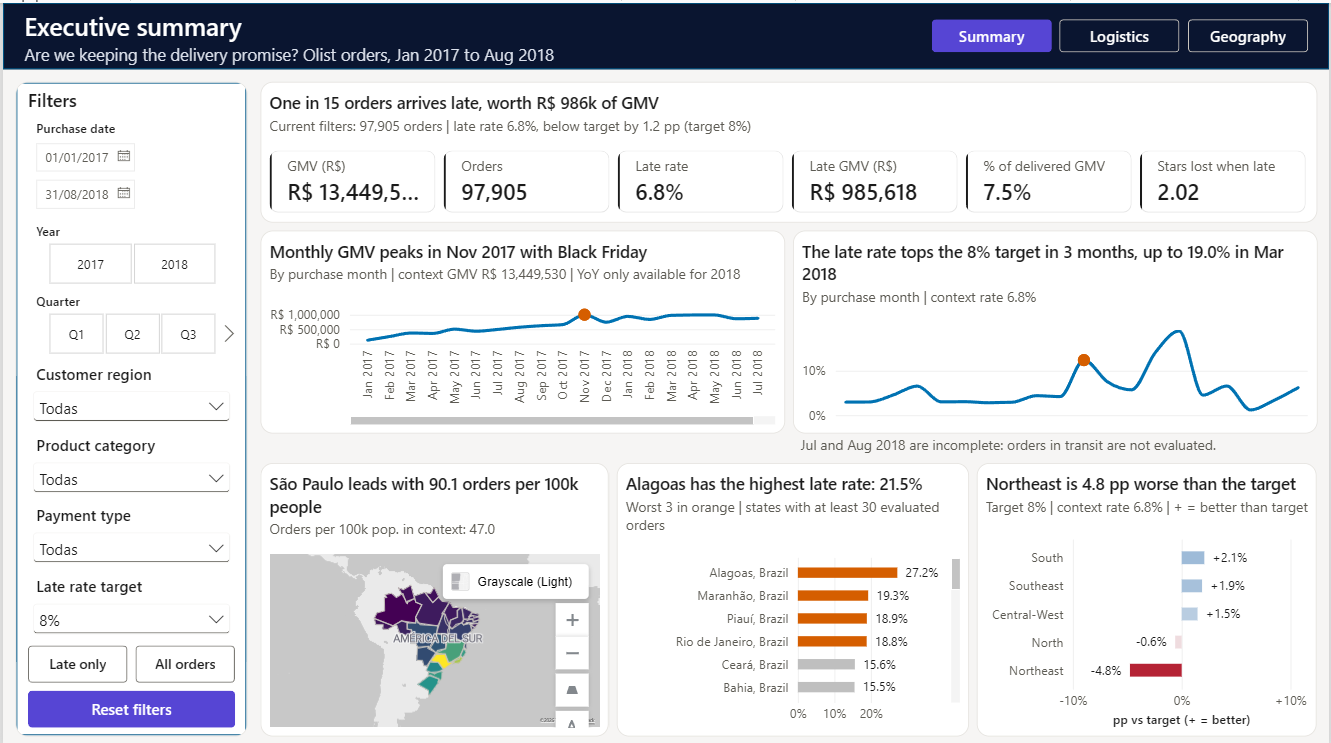

The page's visual inventory and layout, read from the dashboard file:
{"tool":"powerbi","page":{"name":"Executive summary","canvas":[1280,720],"ordinal":0},"visuals":[{"type":"shape","box":[0,0,1280,64],"z":0},{"type":"shape","box":[12,76,224,632],"z":0},{"type":"textbox","box":[20,6,640,54],"z":1000},{"type":"textbox","box":[24,82,200,28],"z":1000},{"type":"actionButton","box":[896,16,116,32],"z":2000},{"type":"actionButton","box":[1020,16,116,32],"z":2000},{"type":"actionButton","box":[1144,16,116,32],"z":2000},{"type":"actionButton","box":[680,18,180,28],"z":2000},{"type":"slicer","fields":{"Values":["dim_date.date"]},"box":[24,112,200,92],"z":3000},{"type":"slicer","fields":{"Values":["dim_date.year"]},"box":[24,212,200,60],"z":3000},{"type":"slicer","fields":{"Values":["dim_date.quarter_label"]},"box":[24,280,200,60],"z":3000},{"type":"slicer","fields":{"Values":["dim_customer.region_name"]},"box":[24,348,200,60],"z":3000},{"type":"slicer","fields":{"Values":["dim_product.macro_name"]},"box":[24,416,200,60],"z":3000},{"type":"slicer","fields":{"Values":["dim_payment_type.payment_name"]},"box":[24,484,200,60],"z":3000},{"type":"slicer","fields":{"Values":["Late Rate Target.Target"]},"box":[24,552,200,60],"z":3000},{"type":"actionButton","box":[24,620,96,36],"z":3500},{"type":"actionButton","box":[128,620,96,36],"z":3500},{"type":"actionButton","box":[24,664,200,36],"z":3500},{"type":"cardVisual","title":"One in 15 orders arrives late, worth R$ 986k of GMV","fields":{"Data":["_Measures.GMV","_Measures.Orders","_Measures.Late Rate %","_Measures.Late GMV","_Measures.Late GMV %","_Measures.Review Drop Late"]},"box":[248,76,1020,136],"z":4000},{"type":"lineChart","title":"Monthly GMV peaks in Nov 2017 with Black Friday","fields":{"Category":["dim_date.year","dim_date.month_label"],"Y":["_Measures.GMV","_Measures.Black Friday GMV Point"]},"box":[248,220,506,196],"z":4000},{"type":"lineChart","title":"The late rate tops the 8% target in 3 months, up to 19.0% in Mar 2018","fields":{"Category":["dim_date.year","dim_date.month_label"],"Y":["_Measures.Late Rate %","_Measures.Black Friday Late Rate Point"]},"box":[762,220,506,196],"z":4000},{"type":"azureMap","title":"São Paulo leads with 90.1 orders per 100k people","fields":{"Category":["dim_customer.state_full"]},"box":[248,444,336,264],"z":4000},{"type":"barChart","title":"Alagoas has the highest late rate: 21.5%","fields":{"Category":["dim_customer.region_name","dim_customer.state_full","dim_customer.city"],"Y":["_Measures.Late Rate %"]},"box":[592,444,340,264],"z":4000},{"type":"barChart","title":"Northeast is 4.8 pp worse than the target","fields":{"Category":["dim_customer.region_name"],"Y":["_Measures.Late Rate Variance"]},"box":[940,444,328,264],"z":4000},{"type":"textbox","box":[770,418,490,22],"z":4500}]}

Visuals, with their boxes in screenshot pixels (x1, y1, x2, y2), scaled from the page's 1280x720 canvas onto the 1331x743 screenshot:
shape: [0, 0, 1330, 66]
shape: [12, 78, 245, 731]
textbox: [21, 6, 686, 62]
textbox: [25, 85, 233, 114]
actionButton: [932, 17, 1052, 50]
actionButton: [1061, 17, 1181, 50]
actionButton: [1190, 17, 1310, 50]
actionButton: [707, 19, 894, 47]
slicer - dim_date.date: [25, 116, 233, 211]
slicer - dim_date.year: [25, 219, 233, 281]
slicer - dim_date.quarter_label: [25, 289, 233, 351]
slicer - dim_customer.region_name: [25, 359, 233, 421]
slicer - dim_product.macro_name: [25, 429, 233, 491]
slicer - dim_payment_type.payment_name: [25, 499, 233, 561]
slicer - Late Rate Target.Target: [25, 570, 233, 632]
actionButton: [25, 640, 125, 677]
actionButton: [133, 640, 233, 677]
actionButton: [25, 685, 233, 722]
"One in 15 orders arrives late, worth R$ 986k of GMV" cardVisual: [258, 78, 1319, 219]
"Monthly GMV peaks in Nov 2017 with Black Friday" lineChart: [258, 227, 784, 429]
"The late rate tops the 8% target in 3 months, up to 19.0% in Mar 2018" lineChart: [792, 227, 1319, 429]
"São Paulo leads with 90.1 orders per 100k people" azureMap: [258, 458, 607, 731]
"Alagoas has the highest late rate: 21.5%" barChart: [616, 458, 969, 731]
"Northeast is 4.8 pp worse than the target" barChart: [977, 458, 1319, 731]
textbox: [801, 431, 1310, 454]
